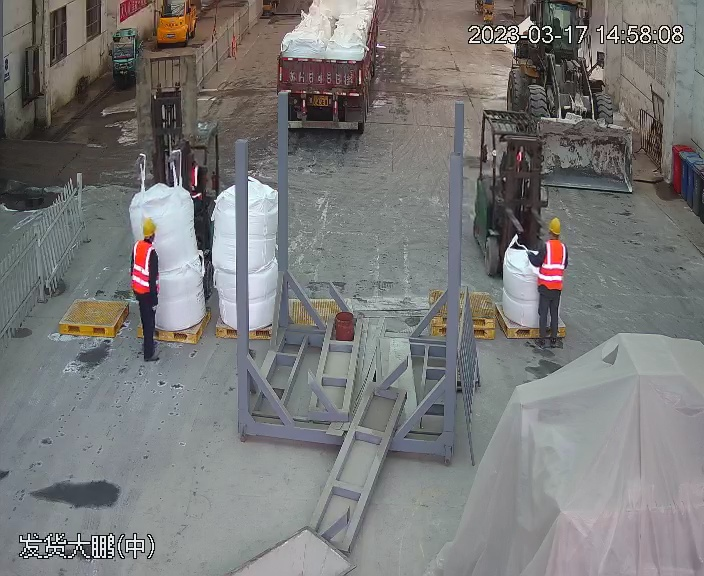head: (132, 216, 159, 265), (538, 217, 566, 258)
helmet: (141, 215, 158, 238), (547, 217, 561, 235)
people: (128, 213, 165, 363), (527, 216, 567, 351)
truck: (273, 0, 387, 130)
